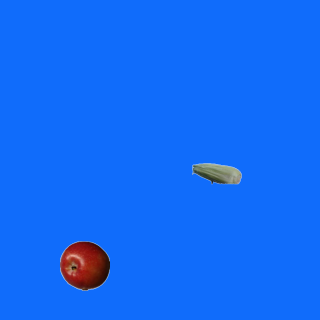Apple Braeburn: (59, 240, 109, 290)
Corn Husk: (191, 148, 241, 198)
